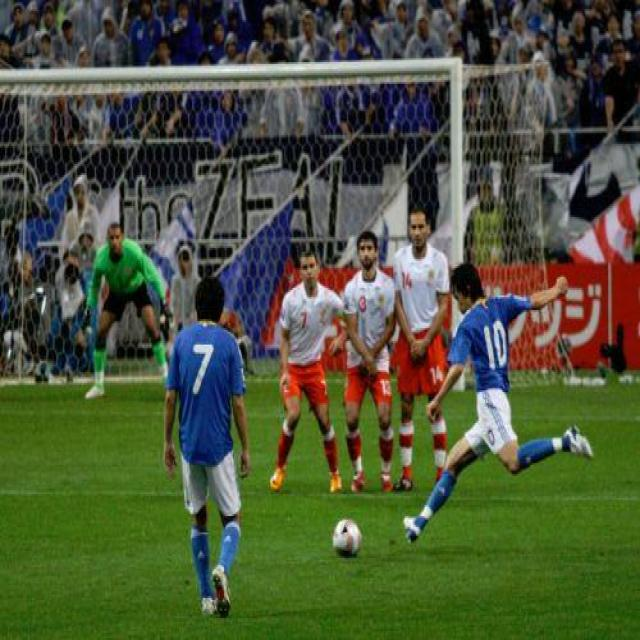ball: (334, 518, 362, 556)
player: (398, 260, 597, 550), (166, 272, 254, 622), (258, 253, 349, 498), (78, 217, 173, 408), (394, 206, 451, 498), (336, 226, 394, 491)
